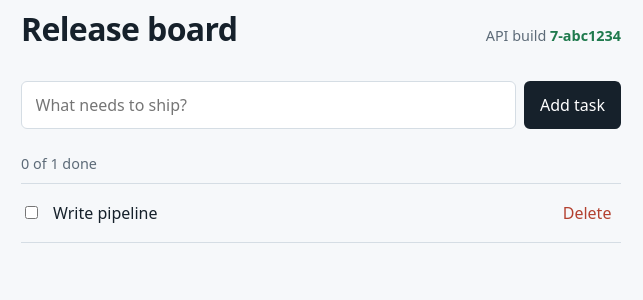
Test case: App › shows the API error message when adding a task is rejected
Expected: the text "Write pipeline" is shown, [53, 201, 157, 225]
In the field named "New task": (268, 105) [21, 81, 516, 129], type "Something"
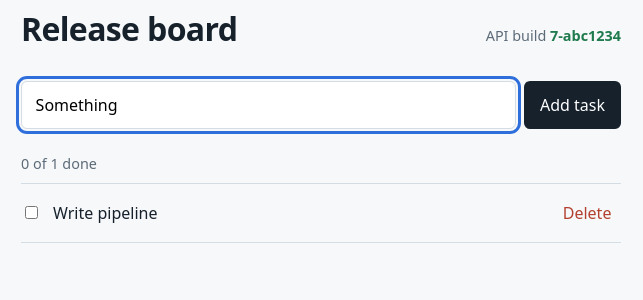
Click the button "Add task": (572, 105) [524, 81, 621, 129]
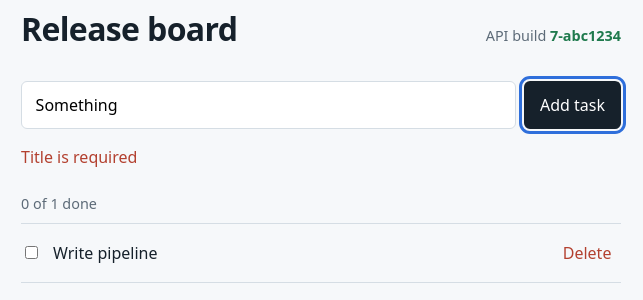
Now the message reads "Title is required", box [21, 146, 137, 168]
